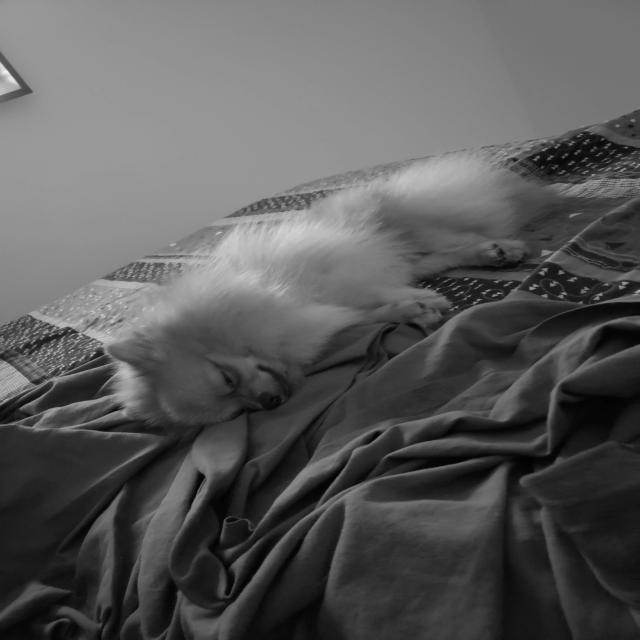laying down: (76, 152, 586, 446)
